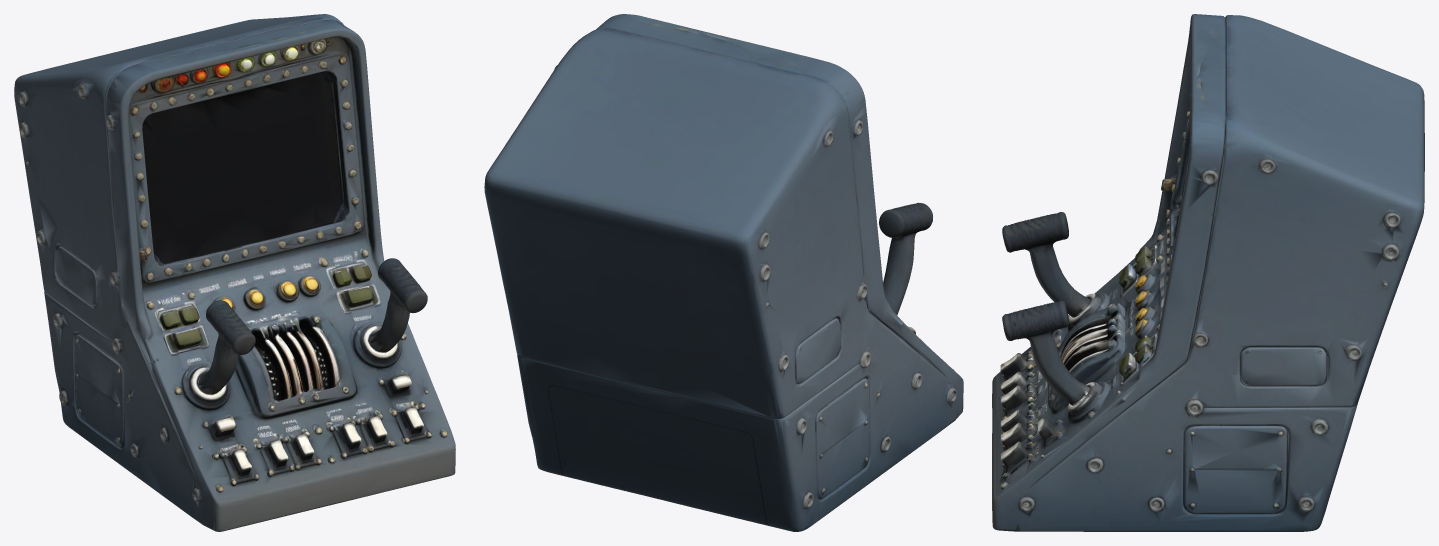
The model's file is console-laterale.glb.
3 renders of one model, left to right at view 1: azimuth 30°, elevation 25°; view 2: azimuth 150°, elevation 25°; view 3: azimuth 270°, elevation 25°, orthographic. The views are drawn at different scales.
Visible parts, largest first — view 1: node_0; view 2: node_0; view 3: node_0.
Boxes of the visible parts, left/top/right/bottom form: node_0: left=14, top=14, right=455, bottom=531; node_0: left=484, top=14, right=963, bottom=531; node_0: left=992, top=14, right=1424, bottom=531.
Size of the model in its own units: 0.5414 by 0.7869 by 0.7616.
Materials: 1 (1 with a texture image).
